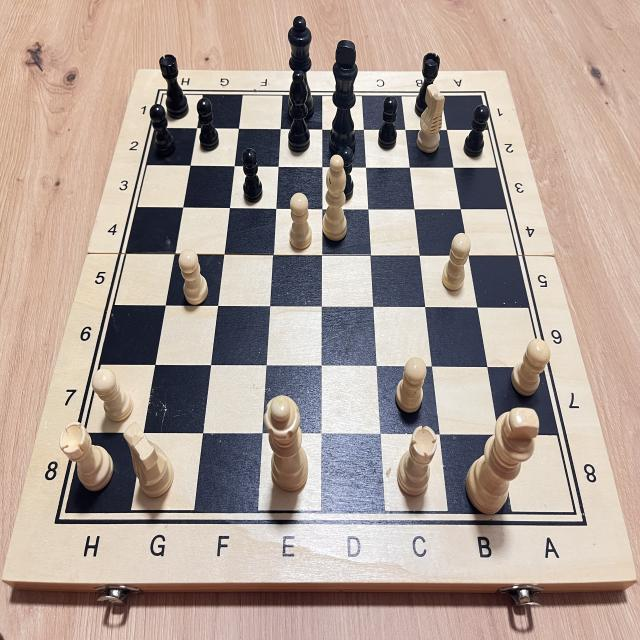black-king: (326, 30, 364, 158)
black-pawn: (460, 99, 498, 164), (146, 99, 179, 163), (374, 91, 406, 156), (329, 141, 362, 204), (238, 141, 266, 207), (195, 95, 224, 156)
black-queen: (277, 10, 322, 126)
black-rook: (410, 42, 450, 128), (153, 46, 194, 126)
white-bishop: (319, 149, 354, 251)
white-king: (463, 397, 543, 521)
white-knight: (121, 416, 176, 509), (412, 81, 451, 165)
white-pawn: (506, 332, 556, 412), (437, 226, 478, 302), (91, 363, 138, 429), (390, 354, 431, 424), (173, 245, 214, 311), (285, 187, 318, 259)
white-queen: (257, 386, 316, 500)
white-rook: (57, 417, 118, 501), (394, 416, 439, 506)
